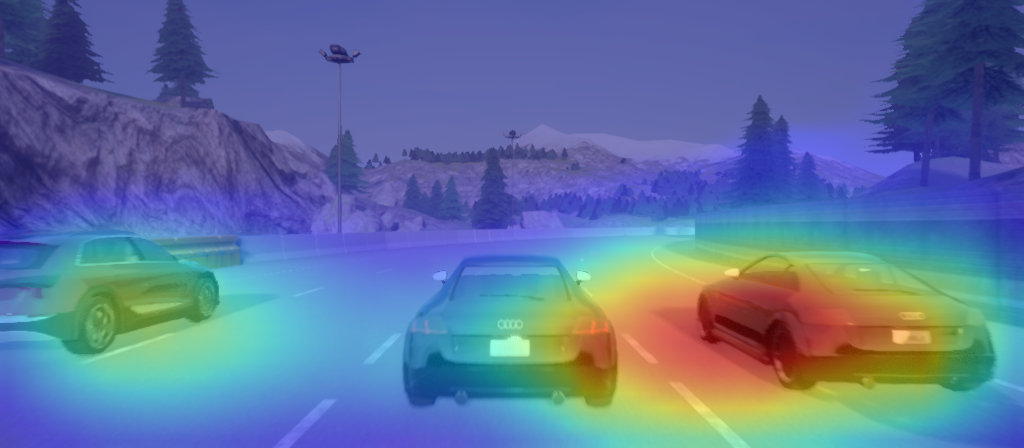Barrier: (705, 209, 987, 245)
Car: (691, 248, 998, 400), (397, 250, 629, 417), (5, 225, 224, 362)
Lane Marker: (665, 375, 751, 448), (263, 396, 347, 448), (360, 328, 405, 373), (618, 328, 662, 371), (291, 284, 327, 302)
Light Pole: (312, 41, 366, 233)
